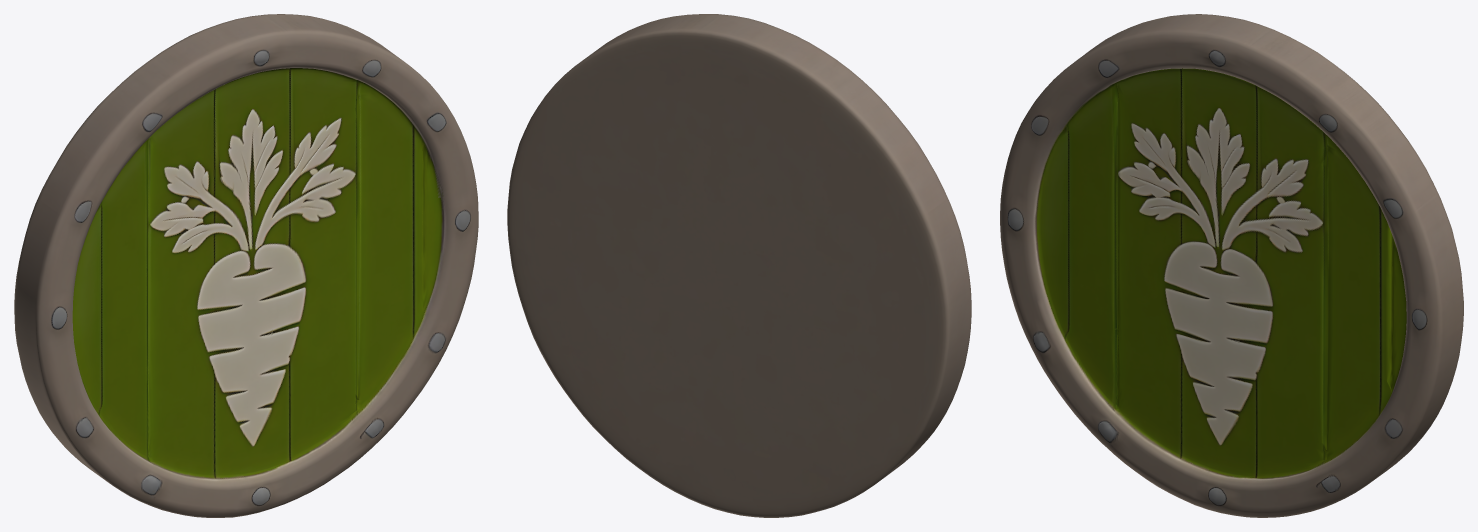
File: shield.glb
3 views of the same model, side by side, from view 1: azimuth 30°, elevation 25°; view 2: azimuth 150°, elevation 25°; view 3: azimuth 330°, elevation 25° (orthographic).
Parts seen in each view (by area): view 1: model; view 2: model; view 3: model.
Boxes of the visible parts, <box> form: model: <box>14,14,478,517</box>; model: <box>507,14,971,517</box>; model: <box>1000,14,1463,517</box>.
Size of the model in its own units: 1.84 by 1.9 by 0.2119.
Materials: 1 (1 with a texture image).
